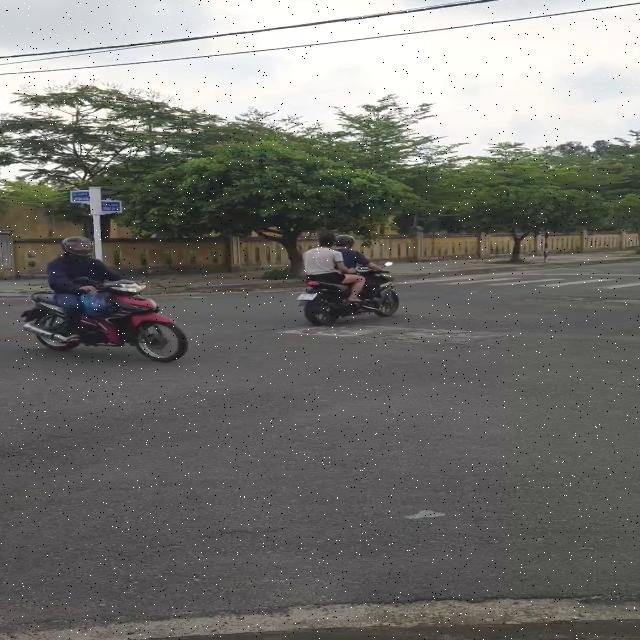helmet: (61, 236, 96, 258), (334, 234, 355, 248)
